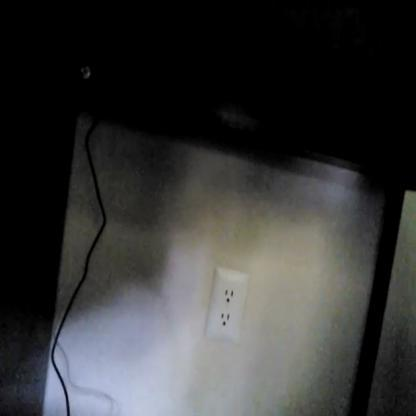OUTLET: (206, 268, 247, 340)
